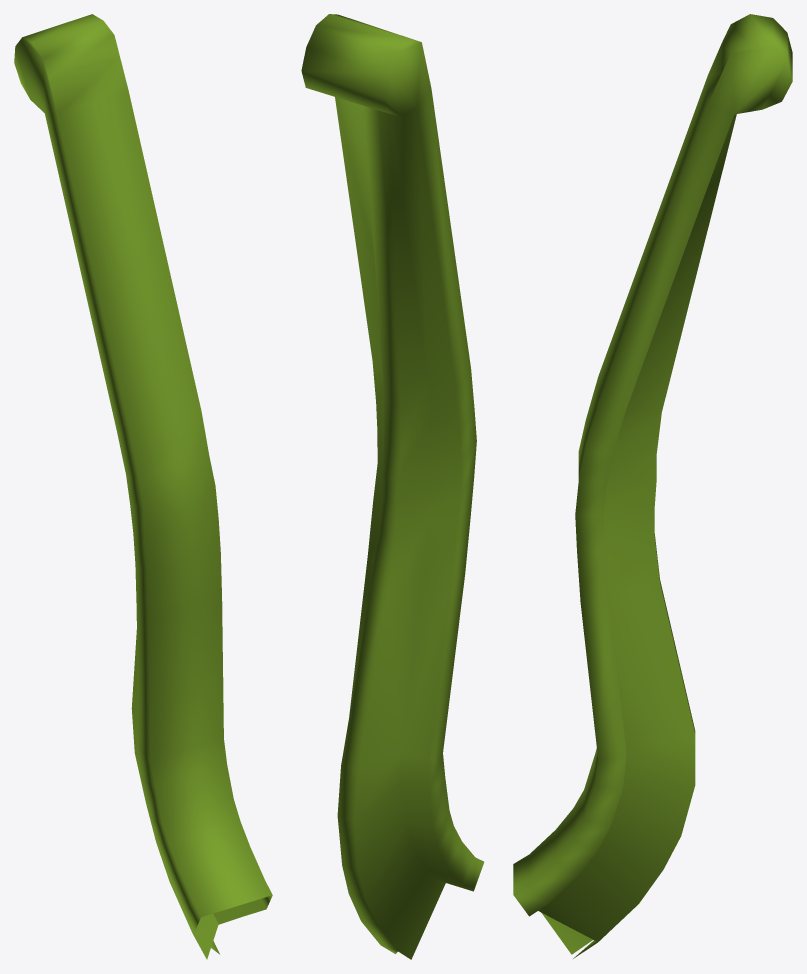
3 views of the same model, side by side, from view 1: azimuth 30°, elevation 25°; view 2: azimuth 150°, elevation 25°; view 3: azimuth 270°, elevation 25° (orthographic). The views are drawn at different scales.
Bounding box in the file's own units: 0.1213 × 0.8037 × 0.2255.
